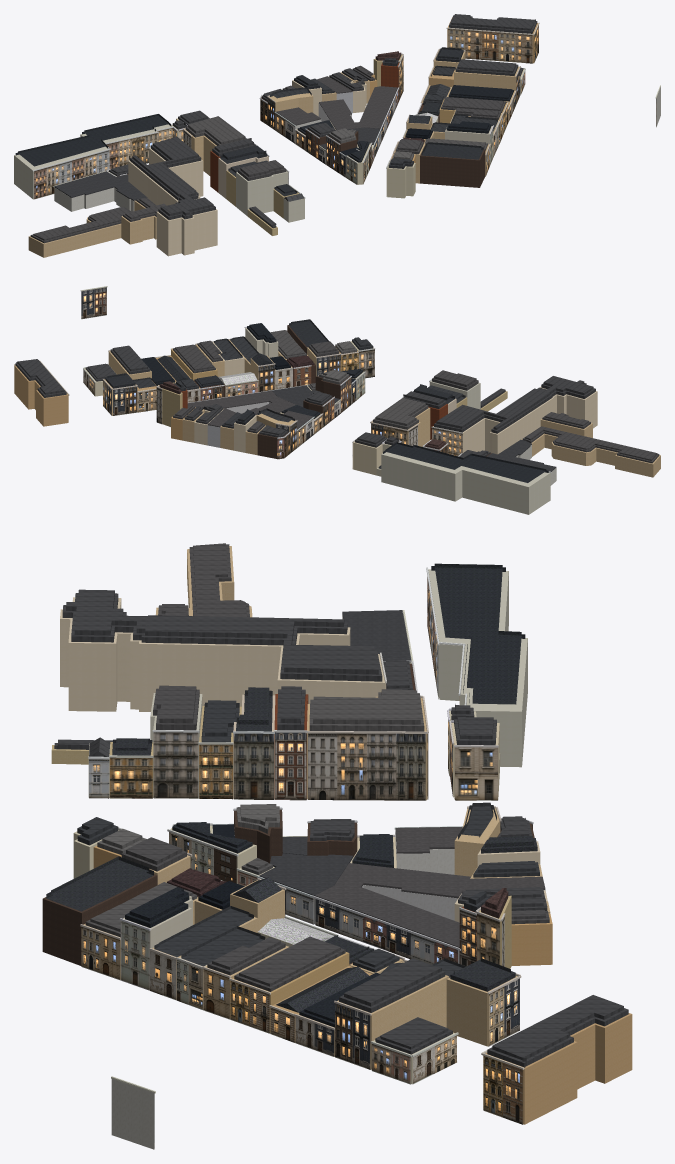
3 renders of one model, top to bottom at view 1: azimuth 30°, elevation 25°; view 2: azimuth 150°, elevation 25°; view 3: azimuth 270°, elevation 25°, orthographic. The views are drawn at different scales.
Parts seen in each view (by area): view 1: bldg_497911462, bldg_497715860_facade0, bldg_1134430183_roof_b, bldg_497911462_roof_b, bldg_228118067, bldg_1134430183_facade0, bldg_137580441_roof, bldg_497911467, bldg_497911442, bldg_497907596_roof, bldg_1134430183, bldg_1134430183_facade2 (+23 smaller); view 2: bldg_1134430183, bldg_497911462, bldg_1134430183_roof_b, bldg_497911462_roof_b, bldg_497911467, bldg_497715860, bldg_497911467_roof_b, bldg_137580441_roof, bldg_497911462_roof_a, bldg_497907602_roof_b, bldg_453582924, bldg_497728467_facade1 (+33 smaller); view 3: bldg_497911462, bldg_497911462_roof_b, bldg_497907602_facade0, bldg_1134430183_roof_b, bldg_497715860, bldg_137580441_roof, bldg_1134430183, bldg_137580441_facade0, bldg_497911462_roof_a, bldg_497907602_roof_b, bldg_497911442_facade0, bldg_228118067 (+57 smaller).
Boxes of the visible parts, x1=… form: bldg_497911462: x1=128, y1=148, x2=217, y2=256; bldg_497715860_facade0: x1=446, y1=27, x2=534, y2=63; bldg_1134430183_roof_b: x1=18, y1=114, x2=168, y2=166; bldg_497911462_roof_b: x1=132, y1=136, x2=213, y2=216; bldg_228118067: x1=420, y1=145, x2=485, y2=187; bldg_1134430183_facade0: x1=32, y1=148, x2=110, y2=199; bldg_137580441_roof: x1=319, y1=86, x2=397, y2=130; bldg_497911467: x1=28, y1=200, x2=145, y2=257; bldg_497911442: x1=236, y1=171, x2=287, y2=216; bldg_497907596_roof: x1=54, y1=171, x2=147, y2=200; bldg_1134430183: x1=14, y1=124, x2=172, y2=199; bldg_1134430183_facade2: x1=105, y1=131, x2=158, y2=169; bldg_1134430183: x1=381, y1=452, x2=550, y2=514; bldg_497911462: x1=433, y1=387, x2=597, y2=454; bldg_1134430183_roof_b: x1=385, y1=442, x2=546, y2=482; bldg_497911462_roof_b: x1=436, y1=376, x2=593, y2=429; bldg_497911467: x1=522, y1=433, x2=660, y2=477; bldg_497715860: x1=14, y1=365, x2=68, y2=426; bldg_497911467_roof_b: x1=525, y1=426, x2=657, y2=460; bldg_137580441_roof: x1=187, y1=390, x2=296, y2=414; bldg_497911462_roof_a: x1=434, y1=383, x2=595, y2=433; bldg_497907602_roof_b: x1=375, y1=397, x2=425, y2=425; bldg_453582924: x1=353, y1=441, x2=382, y2=475; bldg_497728467_facade1: x1=80, y1=286, x2=107, y2=319; bldg_497911462: x1=60, y1=597, x2=385, y2=711; bldg_497911462_roof_b: x1=66, y1=589, x2=378, y2=674; bldg_497907602_facade0: x1=306, y1=731, x2=428, y2=800; bldg_1134430183_roof_b: x1=434, y1=563, x2=521, y2=704; bldg_497715860: x1=485, y1=1013, x2=632, y2=1124; bldg_137580441_roof: x1=315, y1=863, x2=470, y2=947; bldg_1134430183: x1=428, y1=569, x2=527, y2=767; bldg_137580441_facade0: x1=312, y1=895, x2=460, y2=964; bldg_497911462_roof_a: x1=62, y1=593, x2=382, y2=681; bldg_497907602_roof_b: x1=313, y1=689, x2=420, y2=724; bldg_497911442_facade0: x1=152, y1=730, x2=199, y2=798; bldg_228118067: x1=42, y1=874, x2=157, y2=965.
Size of the model in its own units: 286 by 18.64 by 123.
86 materials, 40 textured.
